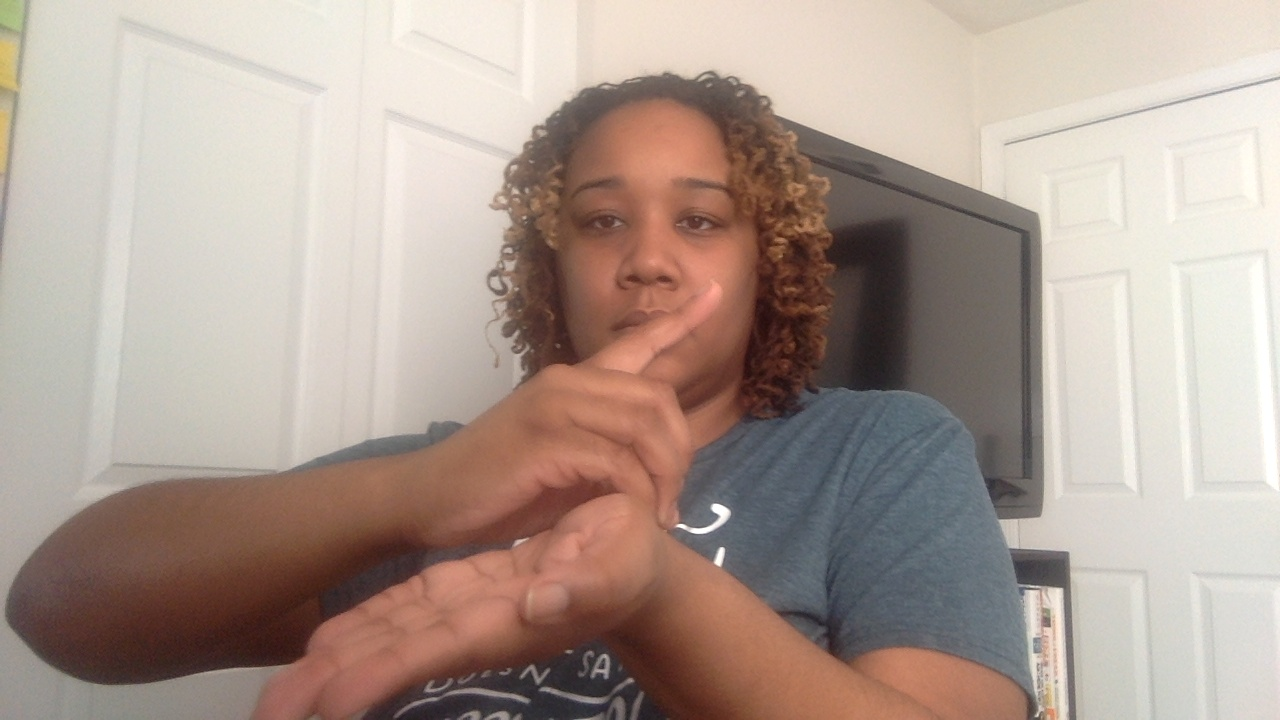doctor: (253, 280, 727, 710)
